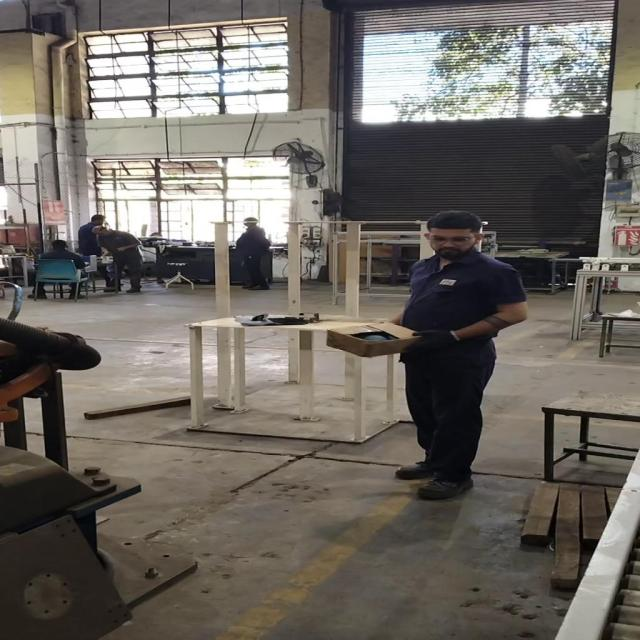Gloves-Detection: (410, 330, 458, 355)
